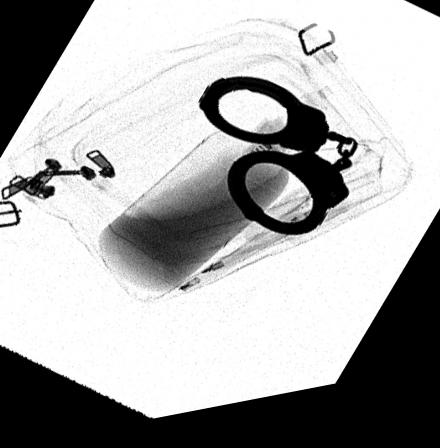HandCuffs: (196, 86, 357, 247)
